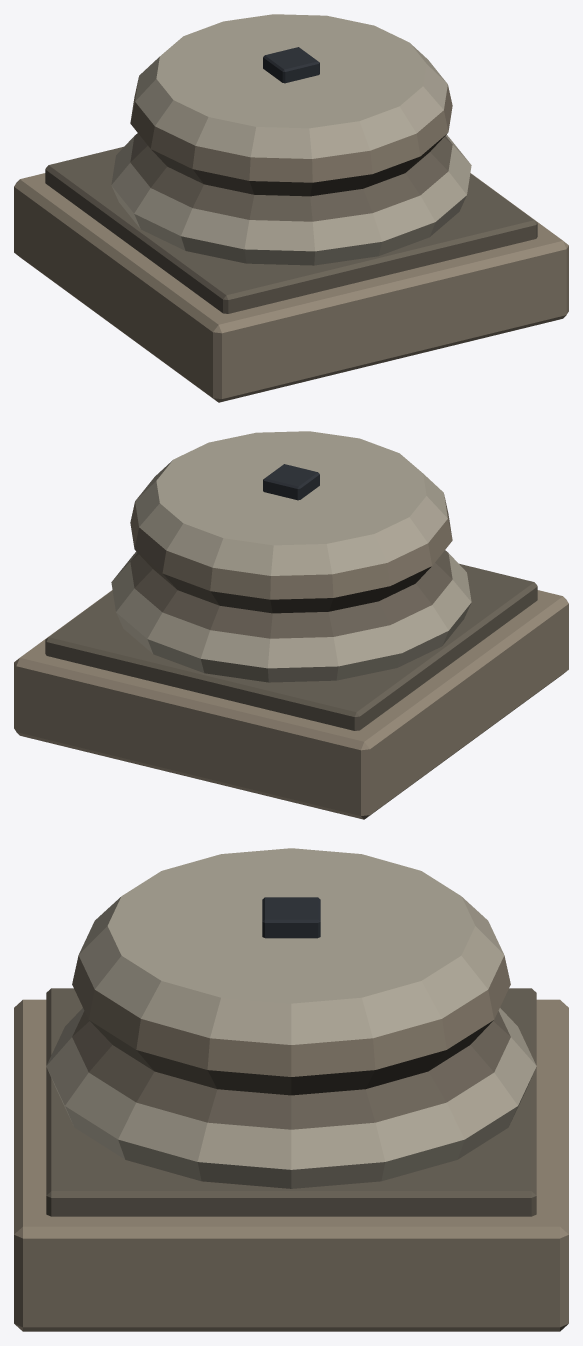
The model's file is mod_classical_column_base.glb.
3 views of the same model, one above another, from view 1: azimuth 30°, elevation 25°; view 2: azimuth 150°, elevation 25°; view 3: azimuth 270°, elevation 25° (orthographic). The views are drawn at different scales.
Parts seen in each view (by area): view 1: Mod_Classical_Column_Base; view 2: Mod_Classical_Column_Base; view 3: Mod_Classical_Column_Base.
Boxes of the visible parts, bbox=[...] form: Mod_Classical_Column_Base: bbox=[14, 14, 568, 402]; Mod_Classical_Column_Base: bbox=[14, 431, 568, 819]; Mod_Classical_Column_Base: bbox=[14, 848, 568, 1331].
Bounding box in the file's own units: 0.86 × 0.53 × 0.86.
